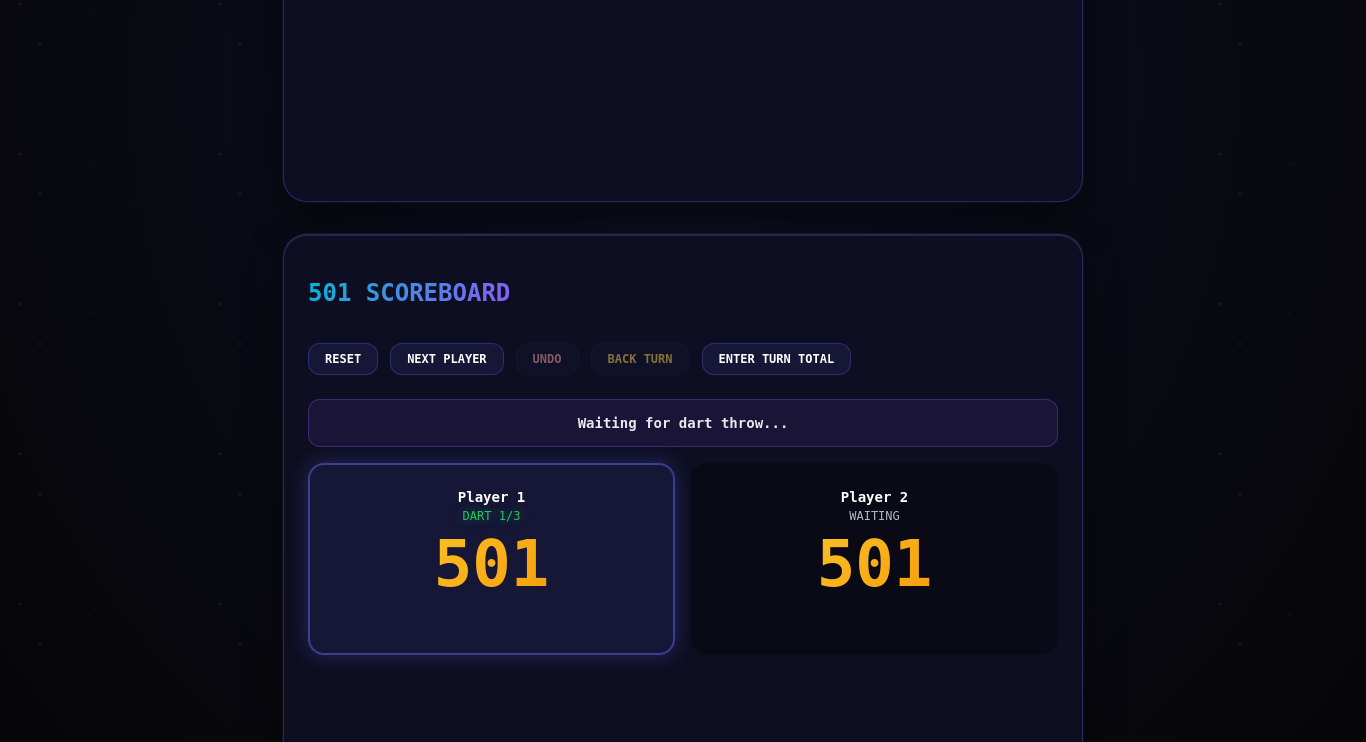
Test: StunningDartboard › applies turn total and advances player
(page scrolled)
Click the button "ENTER TURN TOTAL" at coordinates (776, 359), box top-left (702, 343), bottom-right (851, 375)
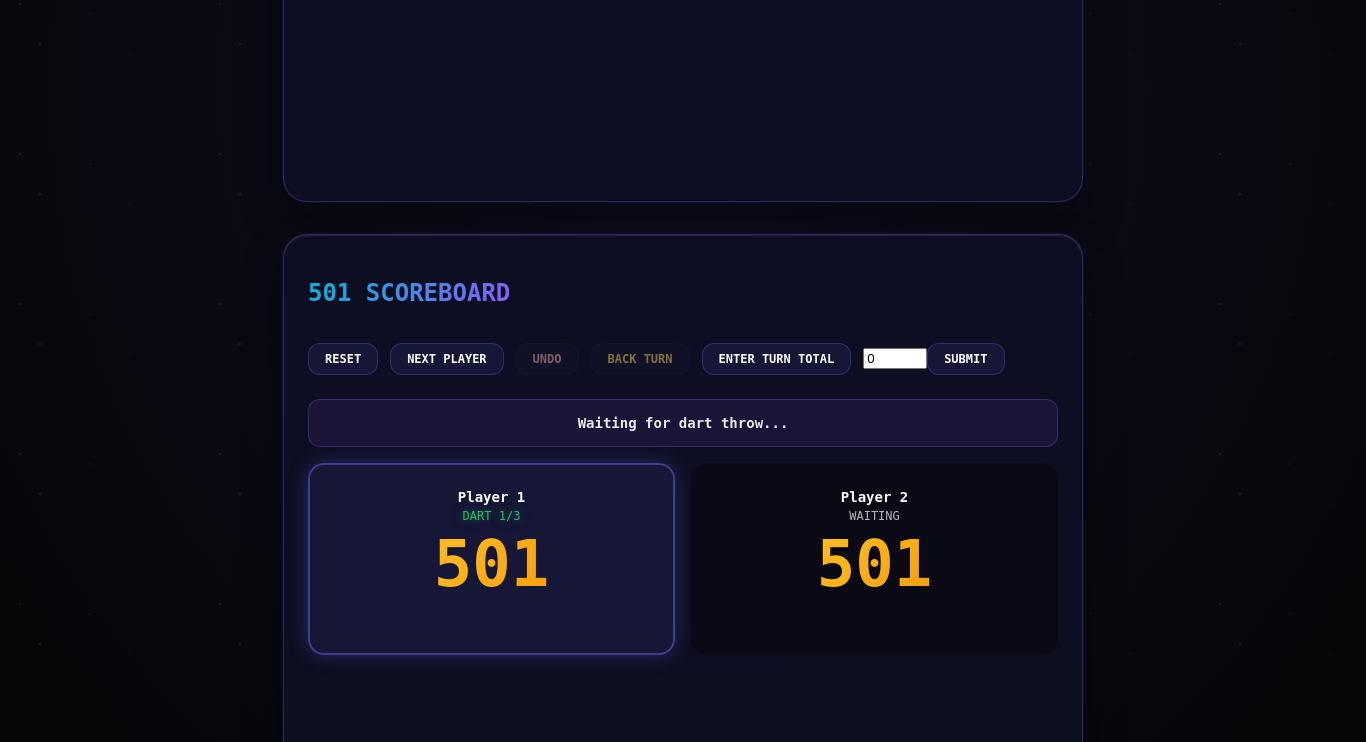
Replace the text in the number field named "turn-total-input" with "60" at coordinates (895, 358), box top-left (863, 348), bottom-right (927, 369)
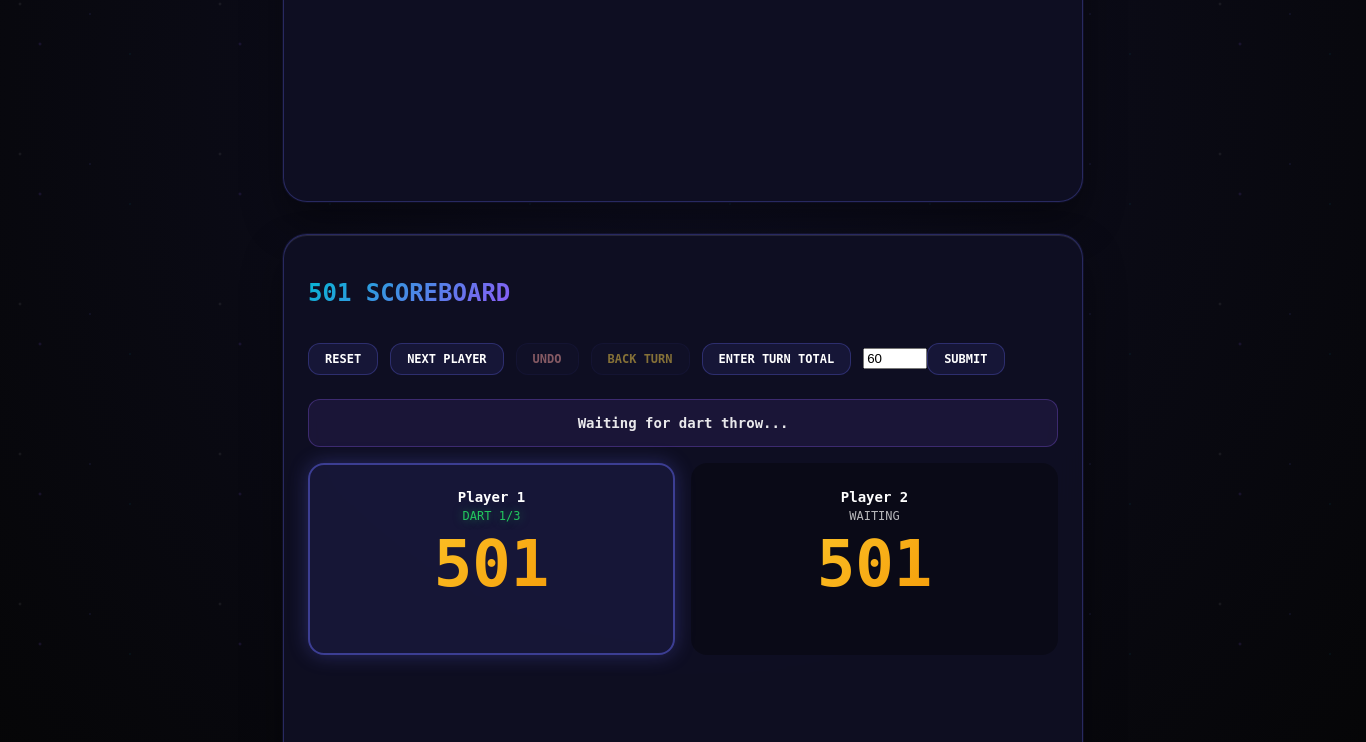
Click the button "SUBMIT" at coordinates (966, 359), box top-left (927, 343), bottom-right (1004, 375)
(page scrolled)
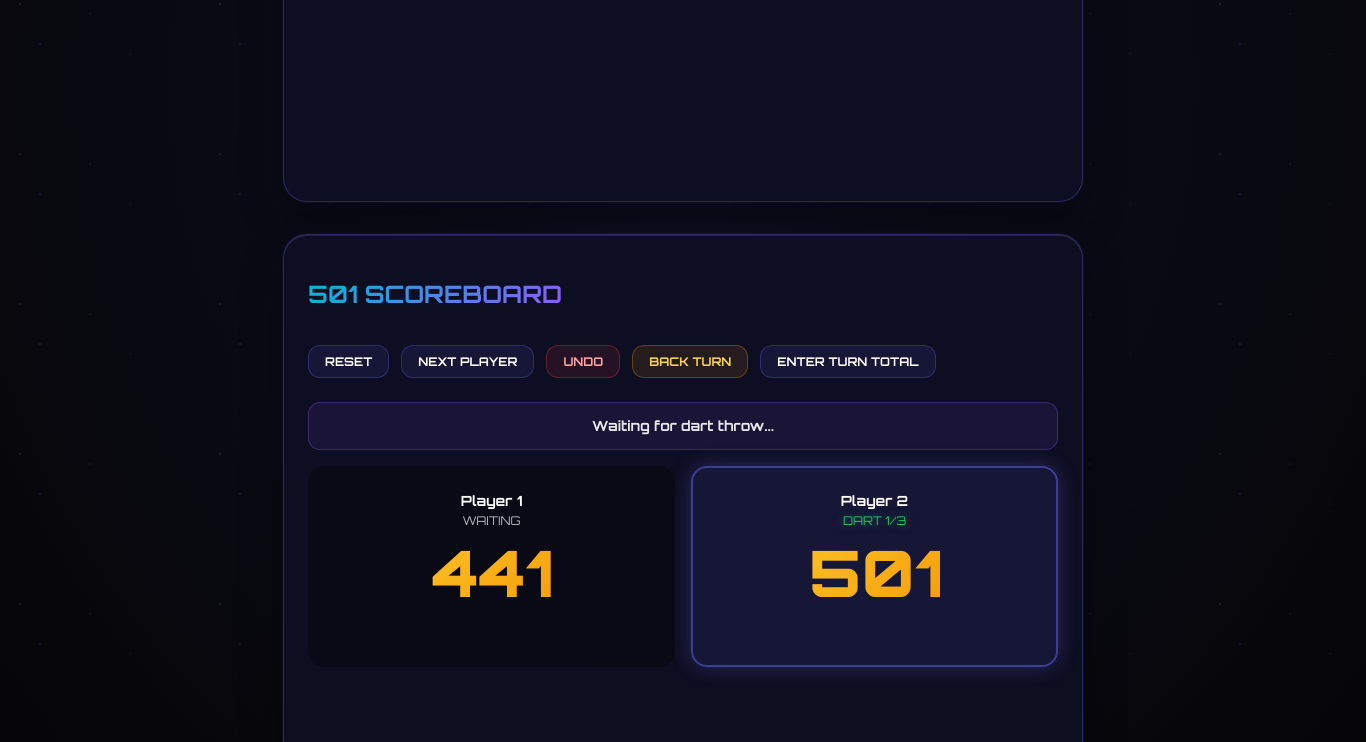
Expected: the text with class "countdown-score" reads "441", top-left (432, 532), bottom-right (551, 613)
Expected: the text with class "dart-indicator" reads "DART 1/3", top-left (843, 513), bottom-right (906, 528)
